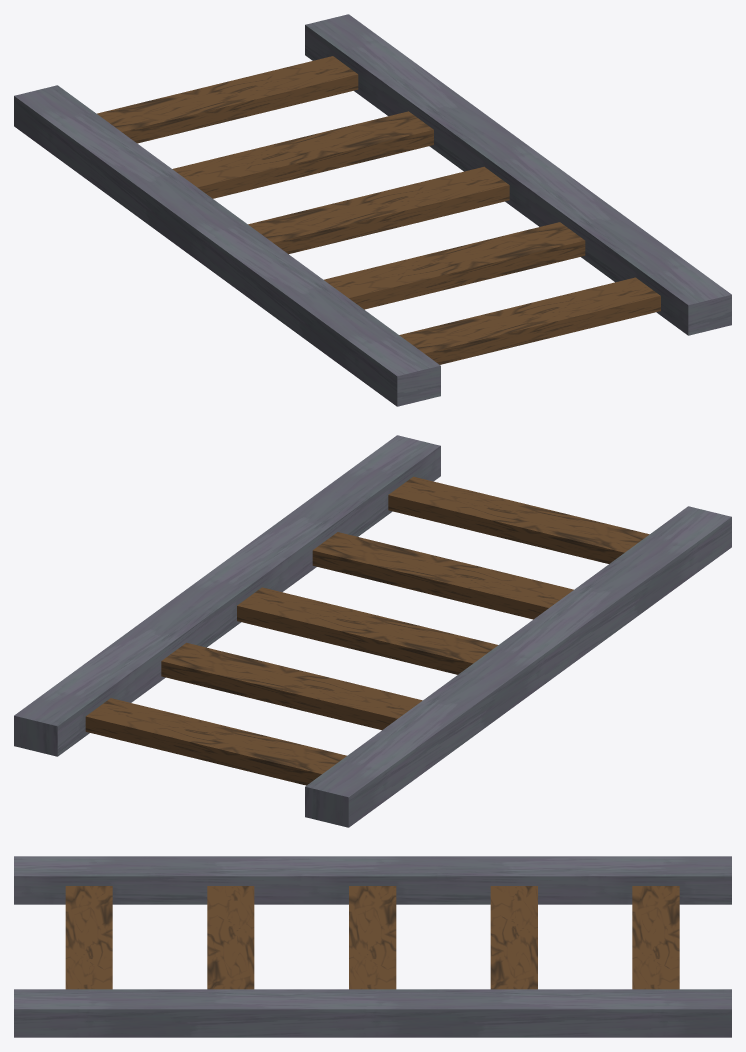
File: Tracks.fbx
3 views of the same model, one above another, from view 1: azimuth 30°, elevation 25°; view 2: azimuth 150°, elevation 25°; view 3: azimuth 270°, elevation 25° (orthographic). The views are drawn at different scales.
Visible parts, largest first — view 1: Cube; view 2: Cube; view 3: Cube.
Boxes of the visible parts, x1,y1,x2,y2 form: Cube: [14, 14, 731, 406]; Cube: [14, 435, 731, 827]; Cube: [14, 856, 731, 1037].
Size of the model in its own units: 414 by 36 by 821.
